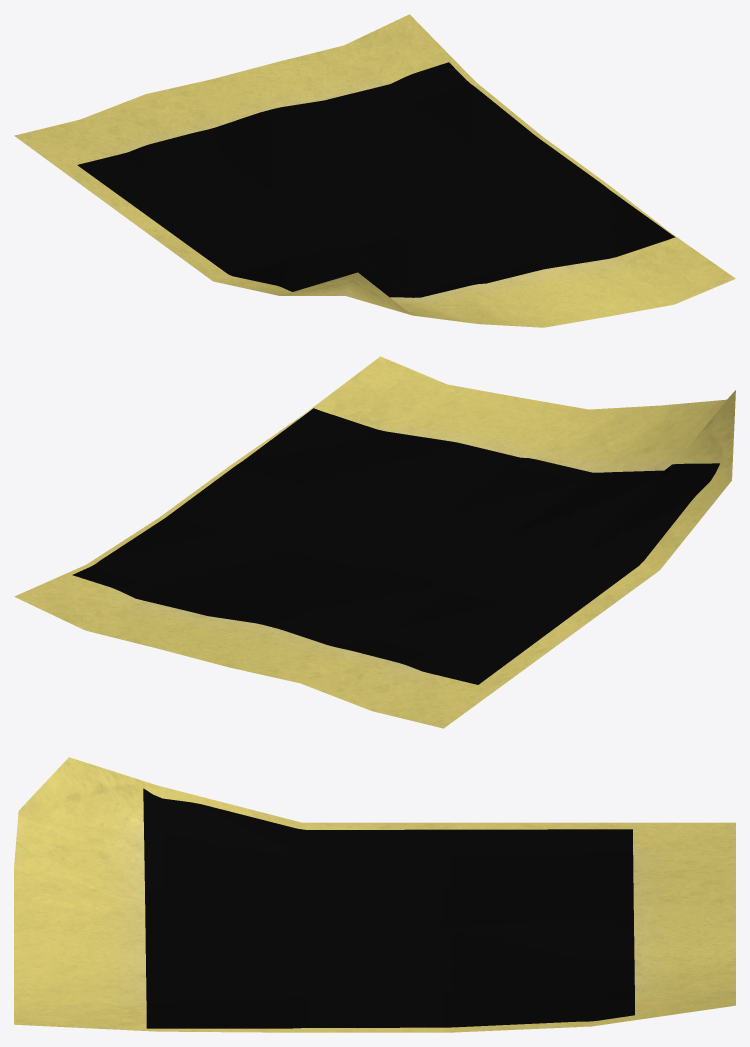
The model's file is note.glb.
The picture shows the model from 3 angles, top to bottom: view 1: azimuth 30°, elevation 25°; view 2: azimuth 150°, elevation 25°; view 3: azimuth 270°, elevation 25°; orthographic projection. The views are drawn at different scales.
Parts seen in each view (by area): view 1: note, SM_post_it_notes.002; view 2: note, SM_post_it_notes.002; view 3: note, SM_post_it_notes.002.
Boxes of the visible parts, x1=… form: note: x1=77, y1=62, x2=675, y2=297; SM_post_it_notes.002: x1=14, y1=14, x2=735, y2=327; note: x1=72, y1=408, x2=719, y2=684; SM_post_it_notes.002: x1=14, y1=356, x2=735, y2=728; note: x1=143, y1=788, x2=634, y2=1028; SM_post_it_notes.002: x1=14, y1=757, x2=735, y2=1032.
Size of the model in its own units: 0.076 by 0.0156 by 0.1104.
Materials: 2 (2 with a texture image).
